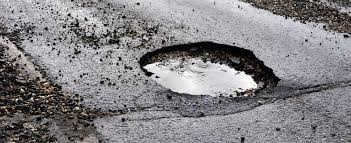pothole: (131, 33, 297, 112)
